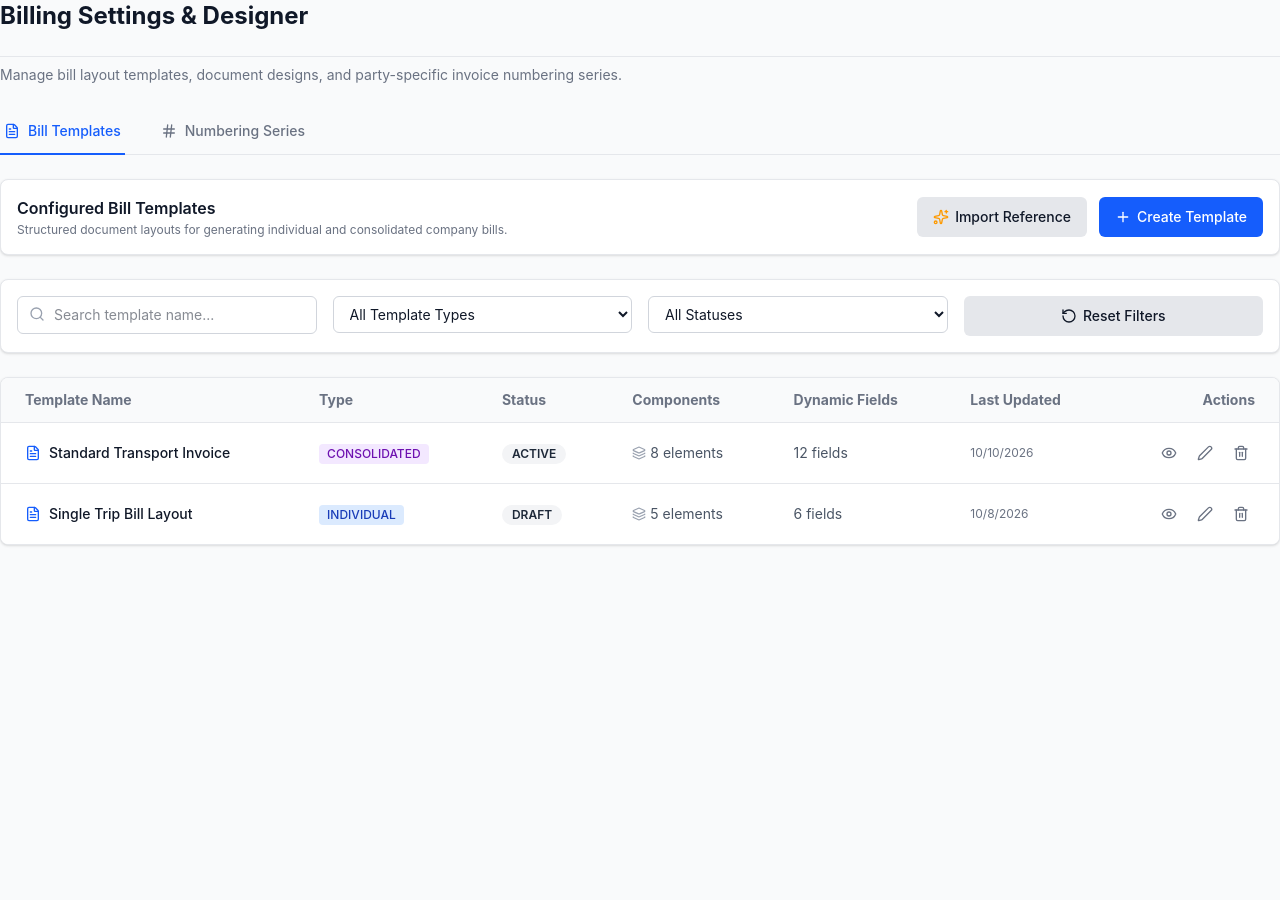
BillingSettings Page › handles delete modal and displays historical template rejection message if 422 returned
Expected: the text "Standard Transport Invoice" is shown, [49,443,230,463]
Click delete button for first template
Click the button titled "Delete Template" in the row of "Standard Transport Invoice". click: (1241, 453)
box: [1227,439,1255,467]
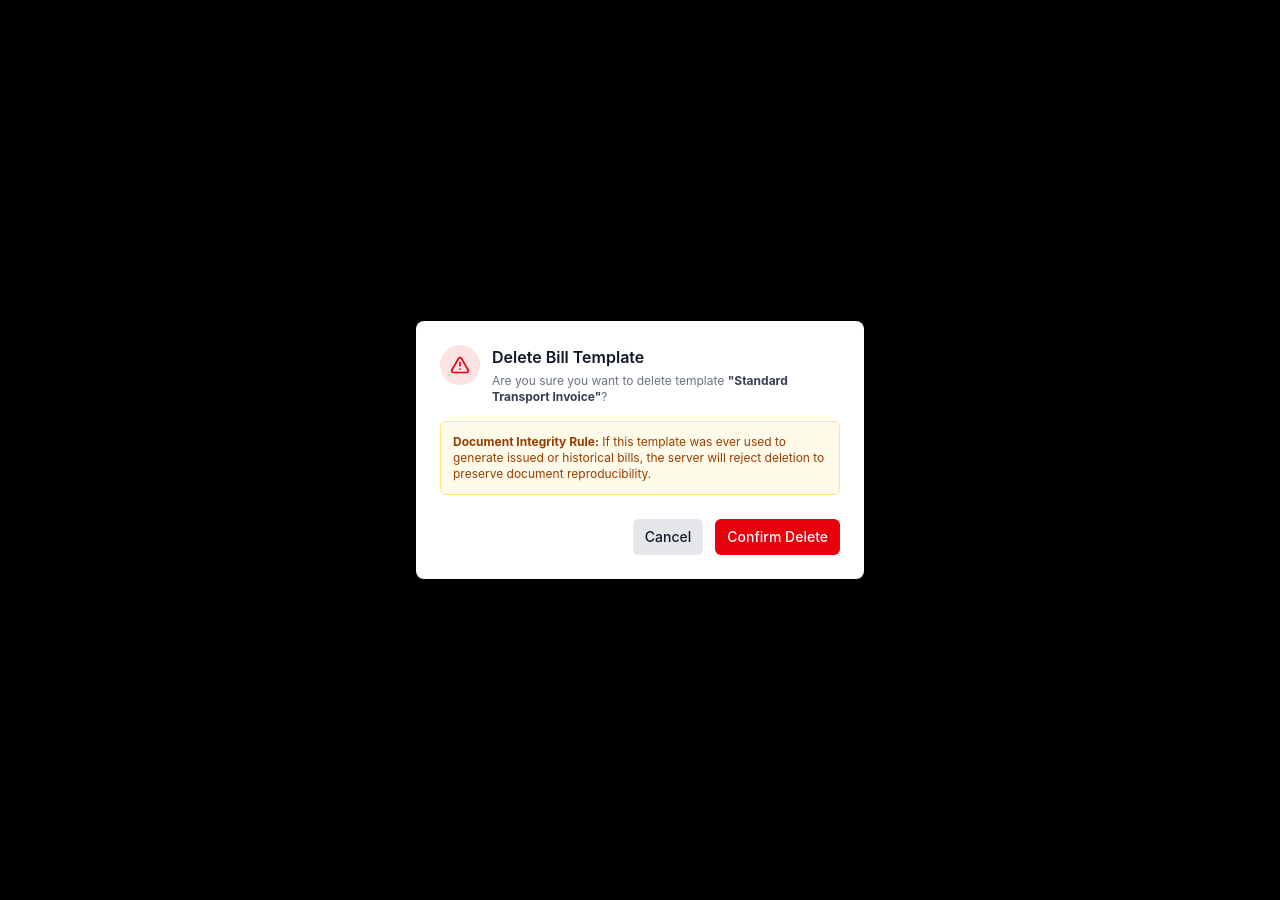
Expected: the heading "Delete Bill Template" is shown, [492,347,644,367]
Expected: the text "Are you sure you want to delete template" is shown, [492,373,724,388]
Click Confirm Delete
Click the button "Confirm Delete". click: (778, 537)
box: [715,519,840,555]
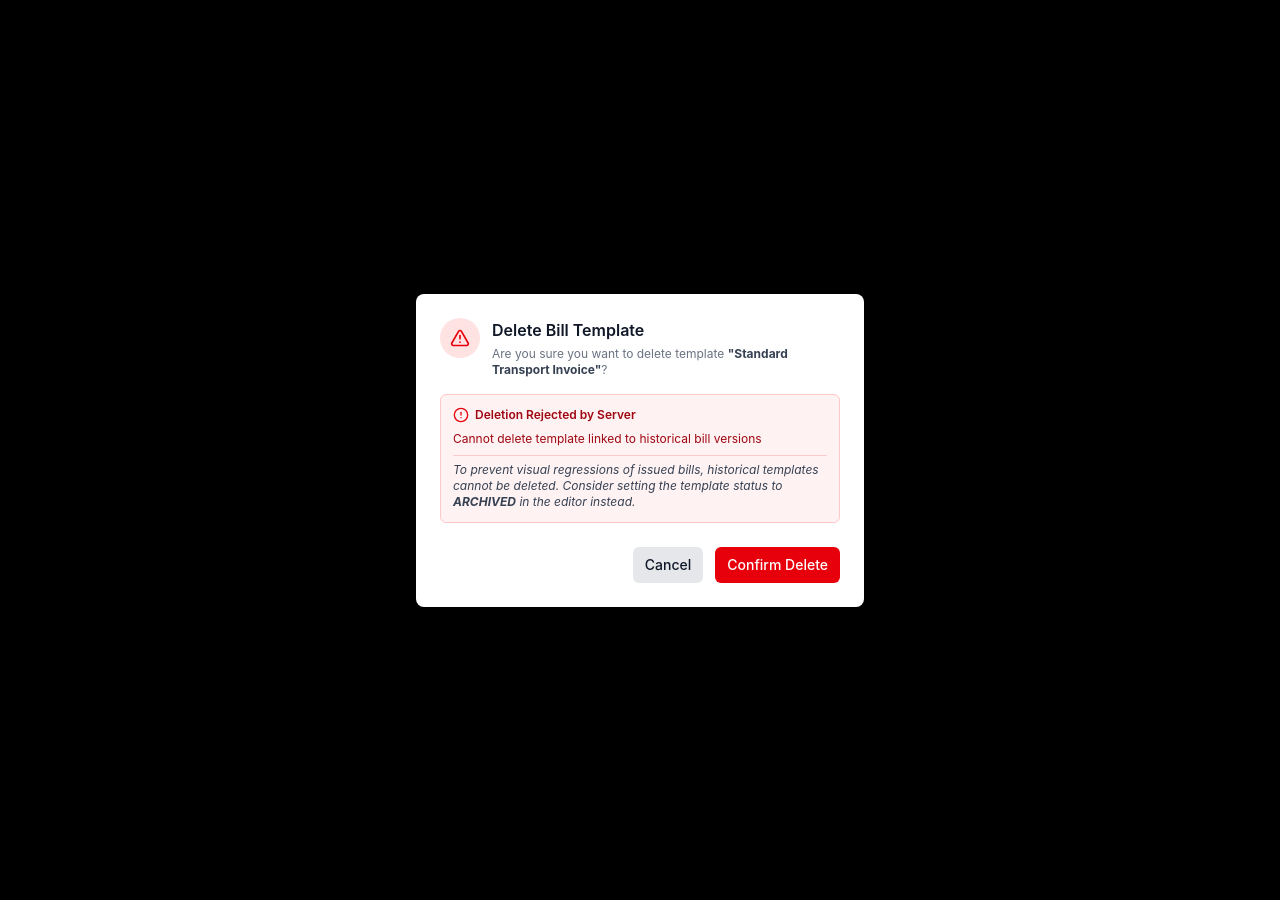
Expected: the text "Deletion Rejected by Server" is shown, [453,406,636,422]
Expected: the text "Cannot delete template linked to historical bill versions" is shown, [453,430,762,446]
Expected: the text "To prevent visual regressions of issued bills" is shown, [453,462,819,492]
